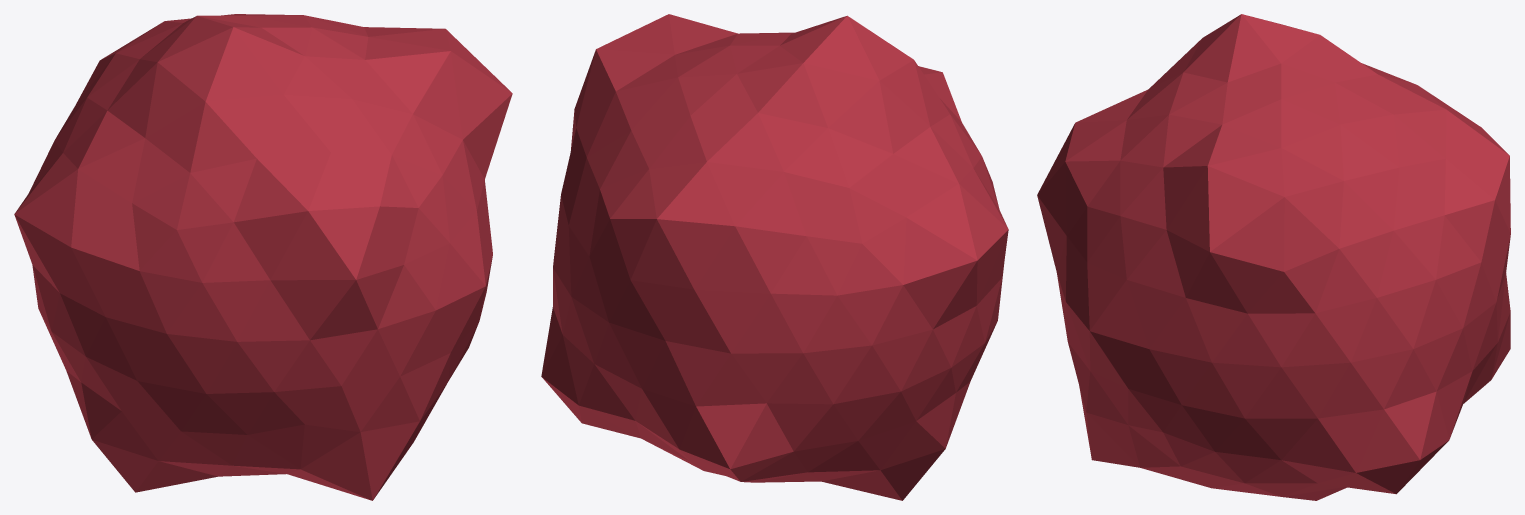
The model's file is star1.fbx.
3 views of the same model, side by side, from view 1: azimuth 30°, elevation 25°; view 2: azimuth 150°, elevation 25°; view 3: azimuth 270°, elevation 25° (orthographic). The views are drawn at different scales.
Visible parts, largest first — view 1: Icosphere; view 2: Icosphere; view 3: Icosphere.
Part boxes in pixels (left/top/right/bottom): Icosphere: left=14, top=14, right=512, bottom=500; Icosphere: left=541, top=14, right=1008, bottom=500; Icosphere: left=1037, top=14, right=1510, bottom=500.
Bounding box in the file's own units: 218 × 219 × 211.
